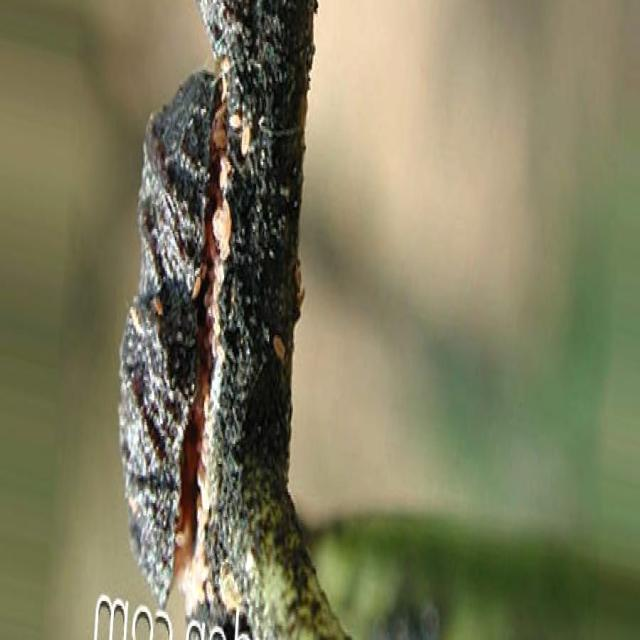Black Scale: (119, 70, 221, 606)
